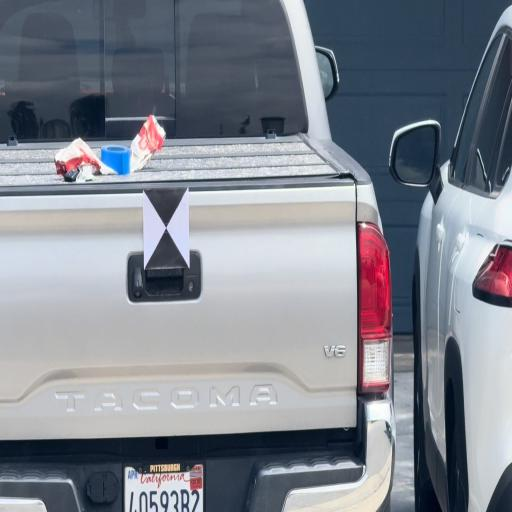target: (142, 188, 190, 267)
